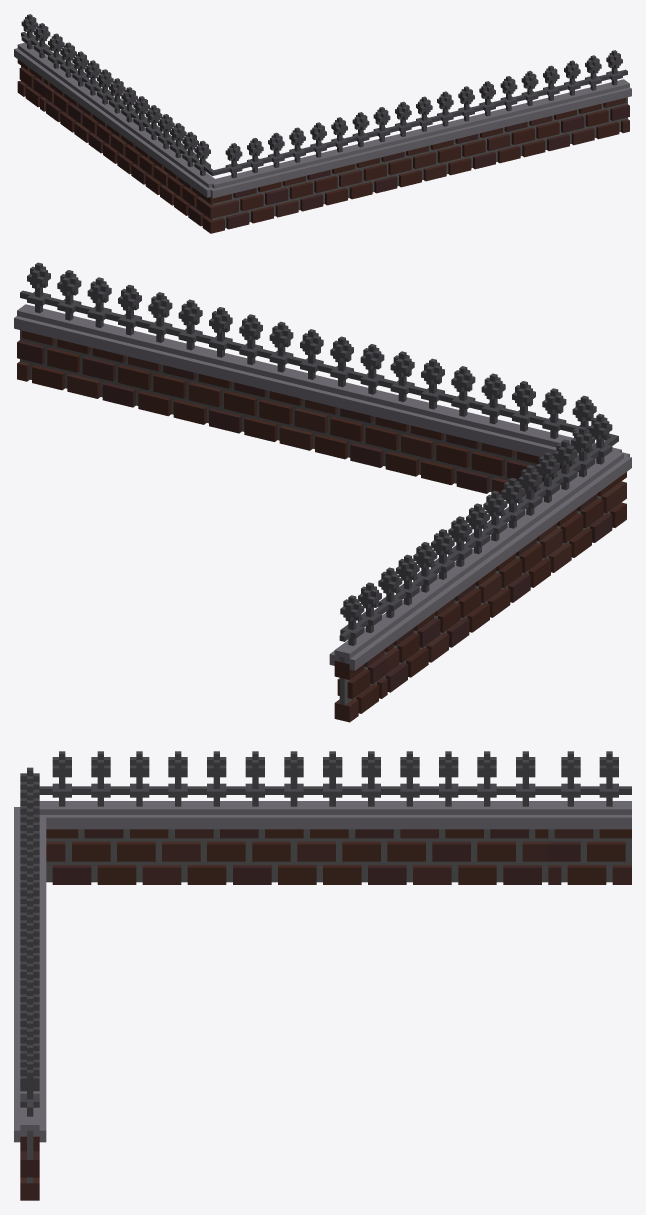
File: Угловой забор.obj
The picture shows the model from 3 angles, top to bottom: view 1: azimuth 30°, elevation 25°; view 2: azimuth 150°, elevation 25°; view 3: azimuth 270°, elevation 25°; orthographic projection. The views are drawn at different scales.
Size of the model in its own units: 12 by 2.2 by 9.6.
Materials: 1 (1 with a texture image).
